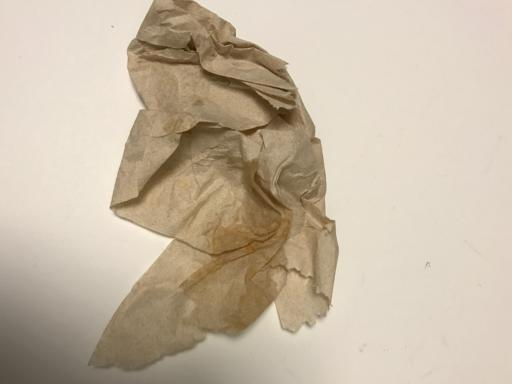trash: (88, 4, 338, 375)
